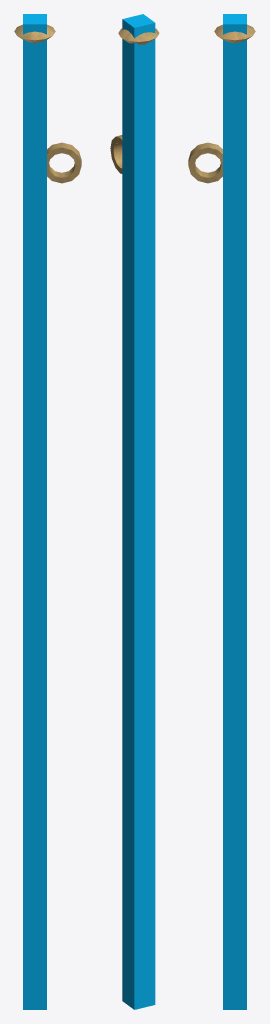
The model's file is JWC_Camp_Jinmaku_A_Post_01.fbx.
The picture shows the model from 3 angles, left to right: view 1: azimuth 90°, elevation 25°; view 2: azimuth 210°, elevation 25°; view 3: azimuth 270°, elevation 25°; orthographic projection.
Parts seen in each view (by area): view 1: C_JWC_Camp_Jinmaku_A_Post_01, JWC_Camp_Jinmaku_A_Post_01; view 2: C_JWC_Camp_Jinmaku_A_Post_01, JWC_Camp_Jinmaku_A_Post_01; view 3: C_JWC_Camp_Jinmaku_A_Post_01, JWC_Camp_Jinmaku_A_Post_01.
Boxes of the visible parts, left/top/right/bottom form: C_JWC_Camp_Jinmaku_A_Post_01: left=23, top=14, right=46, bottom=1009; JWC_Camp_Jinmaku_A_Post_01: left=14, top=24, right=81, bottom=183; C_JWC_Camp_Jinmaku_A_Post_01: left=122, top=14, right=155, bottom=1009; JWC_Camp_Jinmaku_A_Post_01: left=110, top=28, right=159, bottom=173; C_JWC_Camp_Jinmaku_A_Post_01: left=223, top=14, right=246, bottom=1009; JWC_Camp_Jinmaku_A_Post_01: left=188, top=24, right=255, bottom=183.
Size of the model in its own units: 0.0886 by 2.32 by 0.1441.
